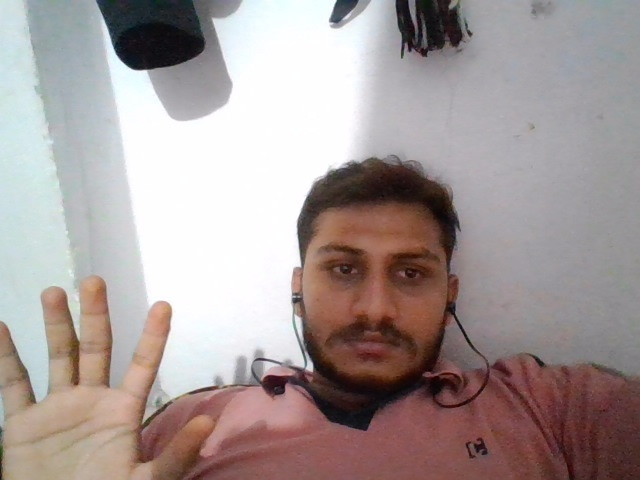Hello: (1, 264, 225, 480)
